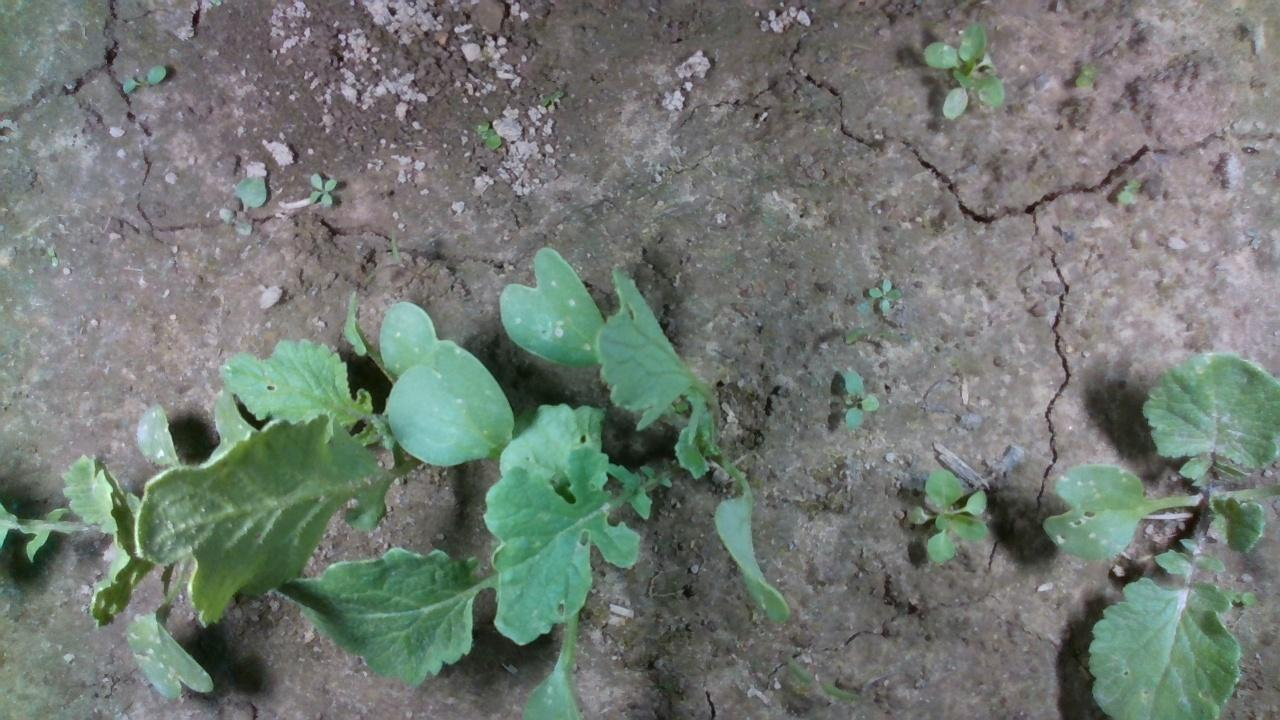weed: (106, 58, 189, 96), (837, 361, 883, 428), (856, 272, 910, 328), (219, 170, 265, 233), (302, 165, 356, 211), (455, 114, 502, 148), (1069, 58, 1101, 94), (1116, 176, 1149, 209)
